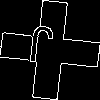J: (25, 25, 55, 73)
